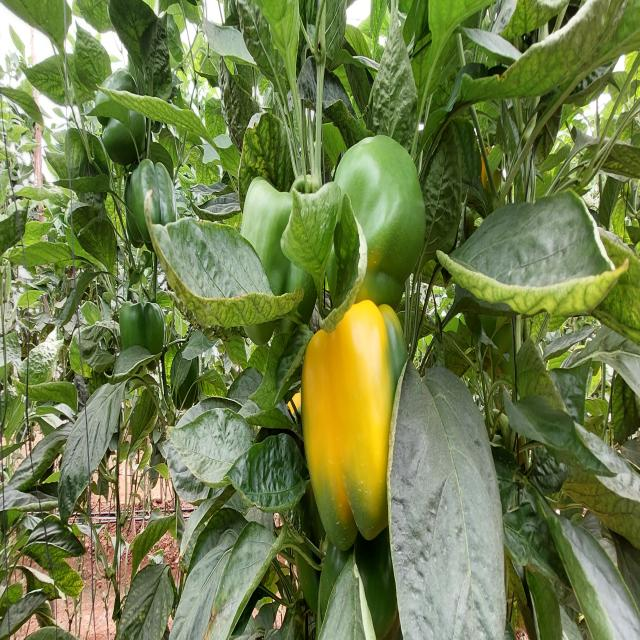GreenishYellow--Can-be-Harvested: (296, 300, 406, 562)
